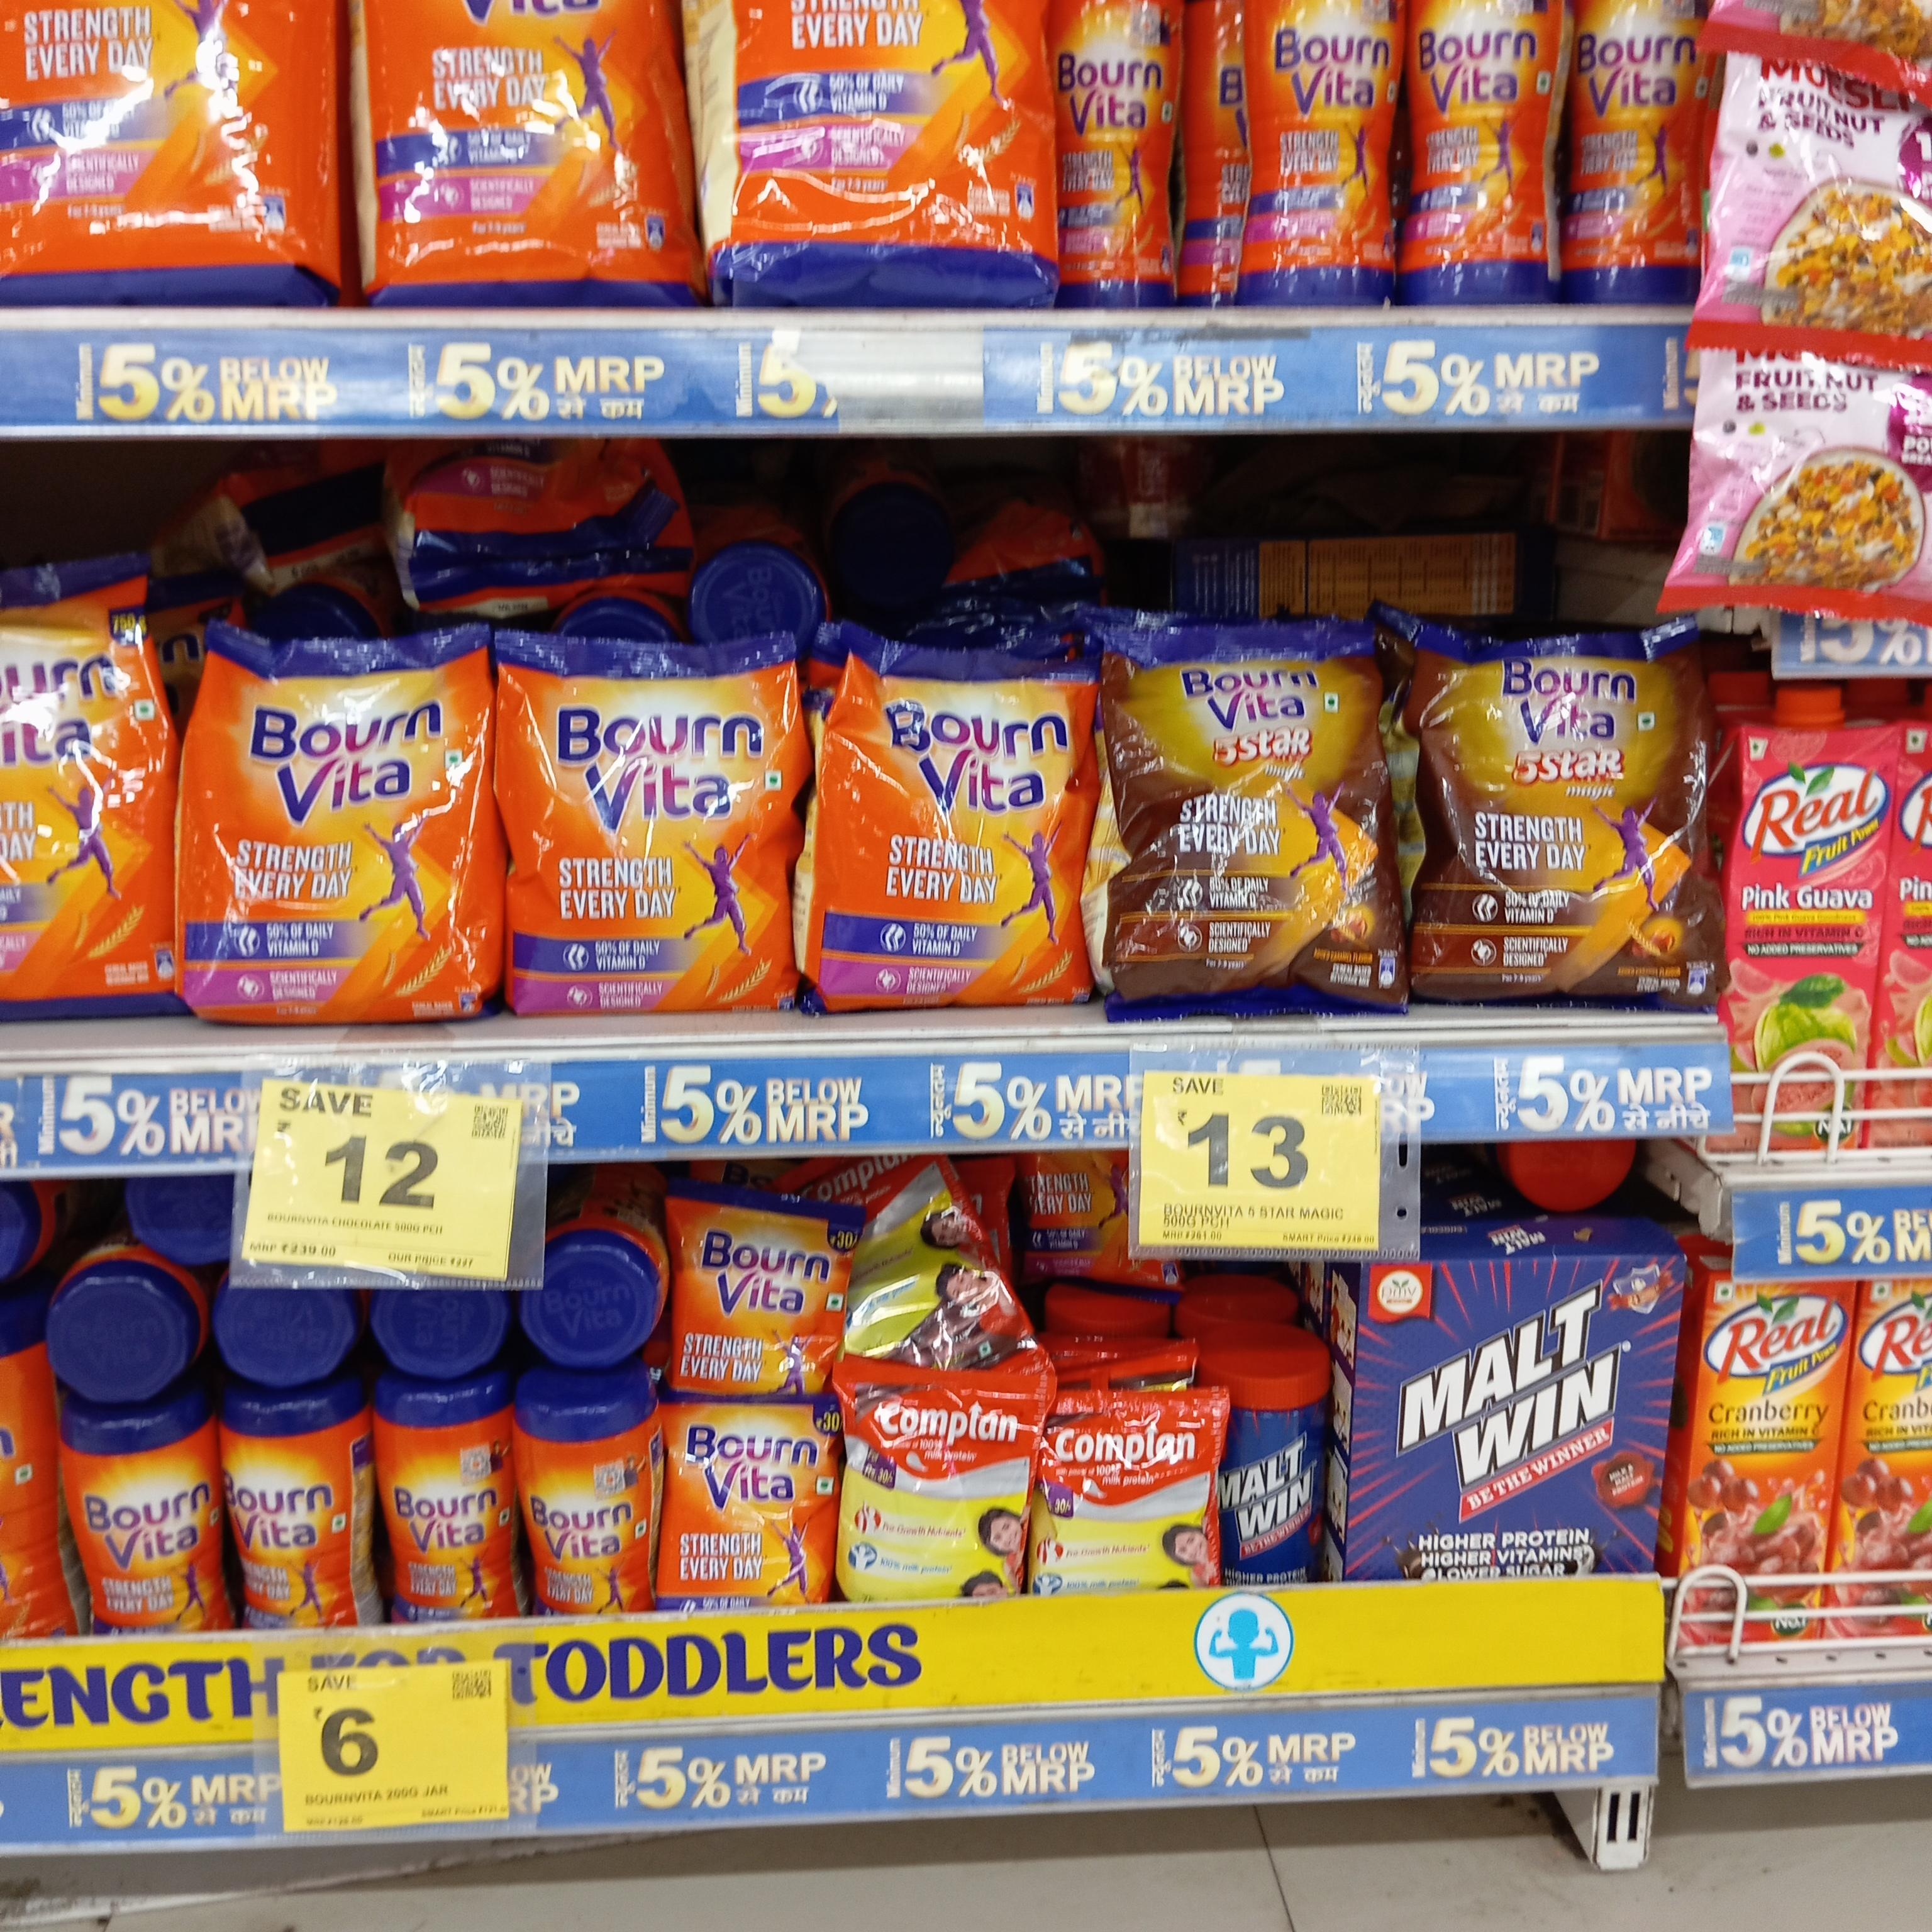BOURN_VITA_500_G_POUCH: (184, 609, 481, 1026), (506, 628, 794, 1010), (817, 623, 1077, 1005)
BOURN_VITA_75_G_POUCH: (667, 1392, 826, 1603), (517, 1387, 655, 1612), (672, 1191, 832, 1380)
BOURN_VITA_FIVE_STAR_MAGIC_500_G_POUCH: (1099, 610, 1401, 1023), (1415, 623, 1723, 1010)
